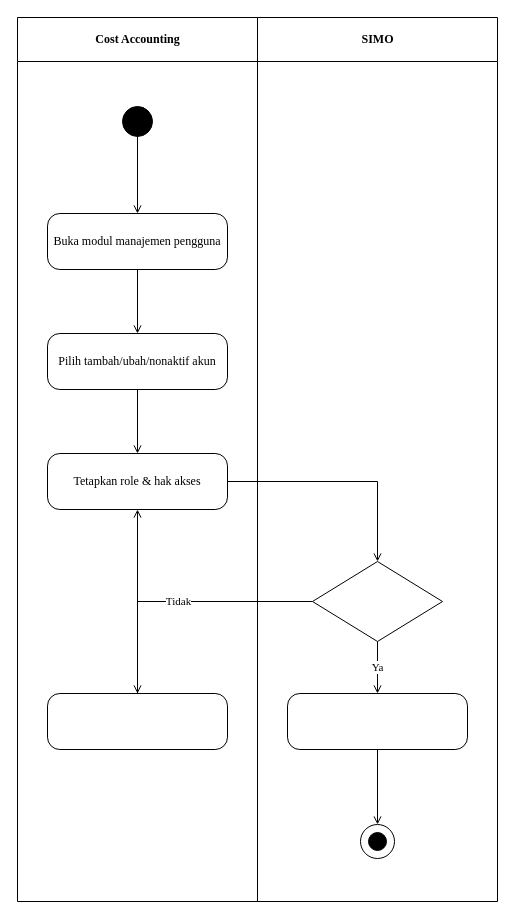
Image size: 515x919. Some labels were removed from this diagram. Here are the shapes that lost their labels. From the top down, the centre of each, then its label:
point (377, 601): Konfigurasi valid?
point (137, 721): Perbaiki konfigurasi
point (377, 721): Simpan & terapkan akses
